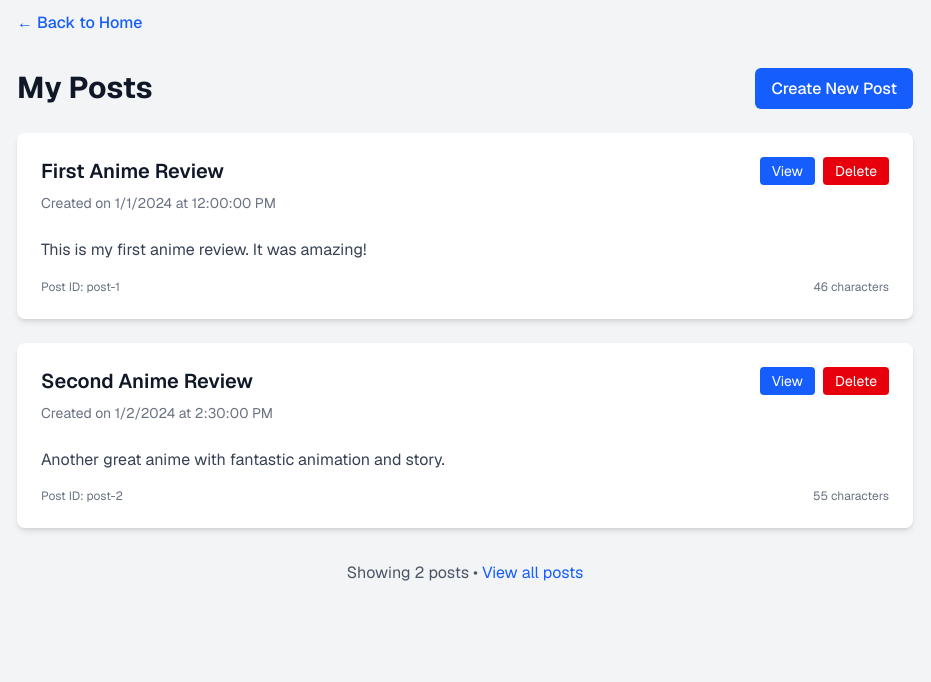
Test: MyPosts › Error Handling › handles unexpected errors when deleting posts
Click the 1st button "Delete" at (856,171), box [823,157,889,185]
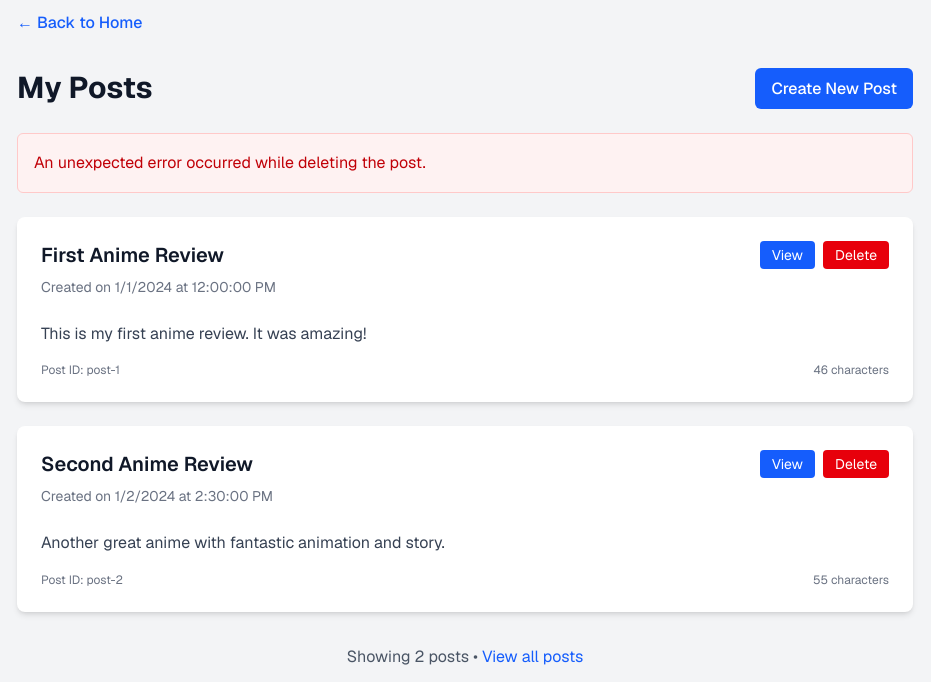
Now the text "An unexpected error occurred while deleting the post." is shown, box [34,152,426,173]
